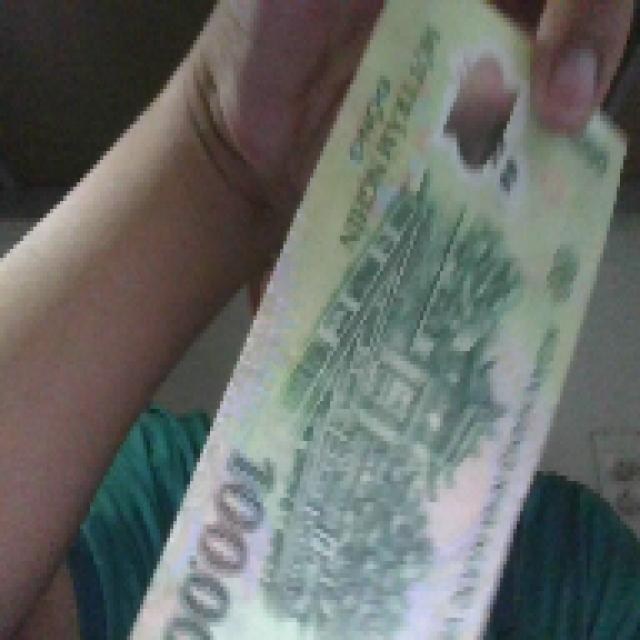100 000 VND: (104, 0, 634, 636)
